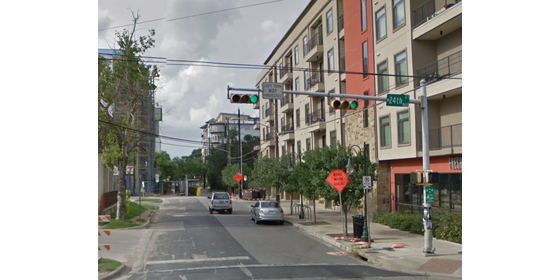left turn not protected sign: (261, 80, 287, 101)
street name sign: (386, 91, 411, 109)
